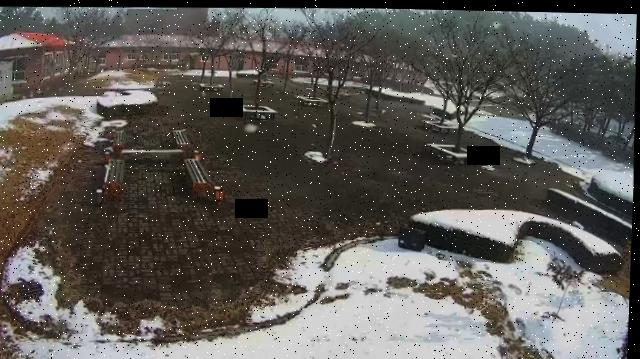bag: (400, 223, 429, 250)
